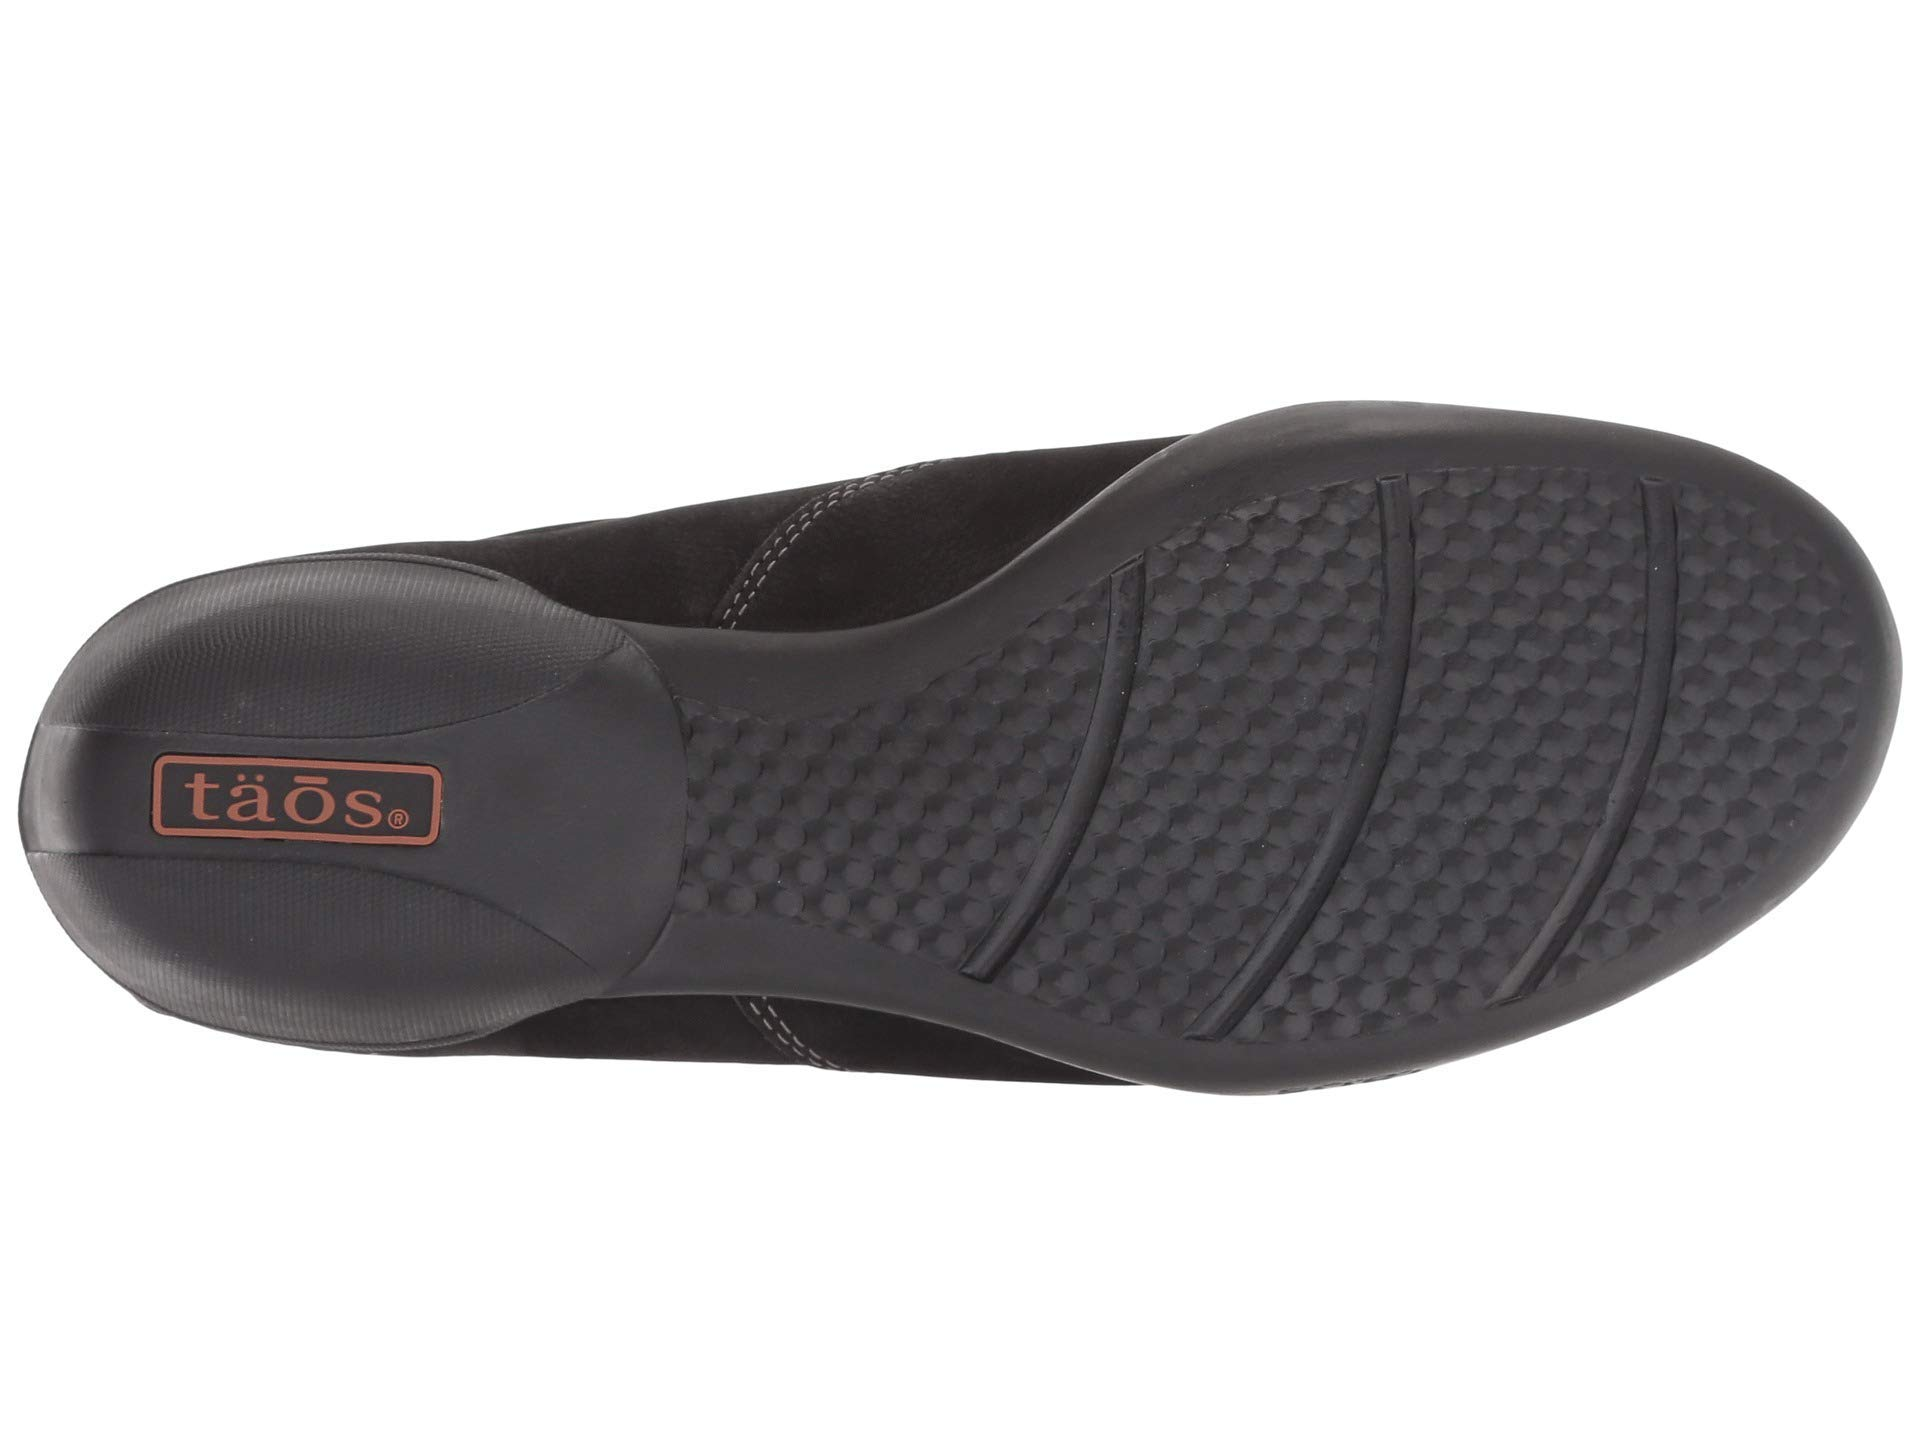circle: (130, 738, 460, 849)
line: (130, 738, 460, 849)
other: (181, 903, 382, 989)
polygon: (1442, 523, 1609, 793)
quad: (130, 738, 460, 849)
text: (130, 738, 460, 849)
